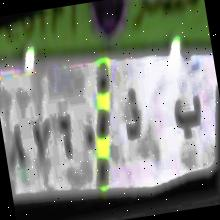0: (80, 122, 98, 152)
6: (54, 108, 77, 162)
7: (28, 118, 56, 168)
8: (1, 116, 30, 178)
baa: (169, 88, 207, 143)
zaal: (117, 85, 146, 146)
